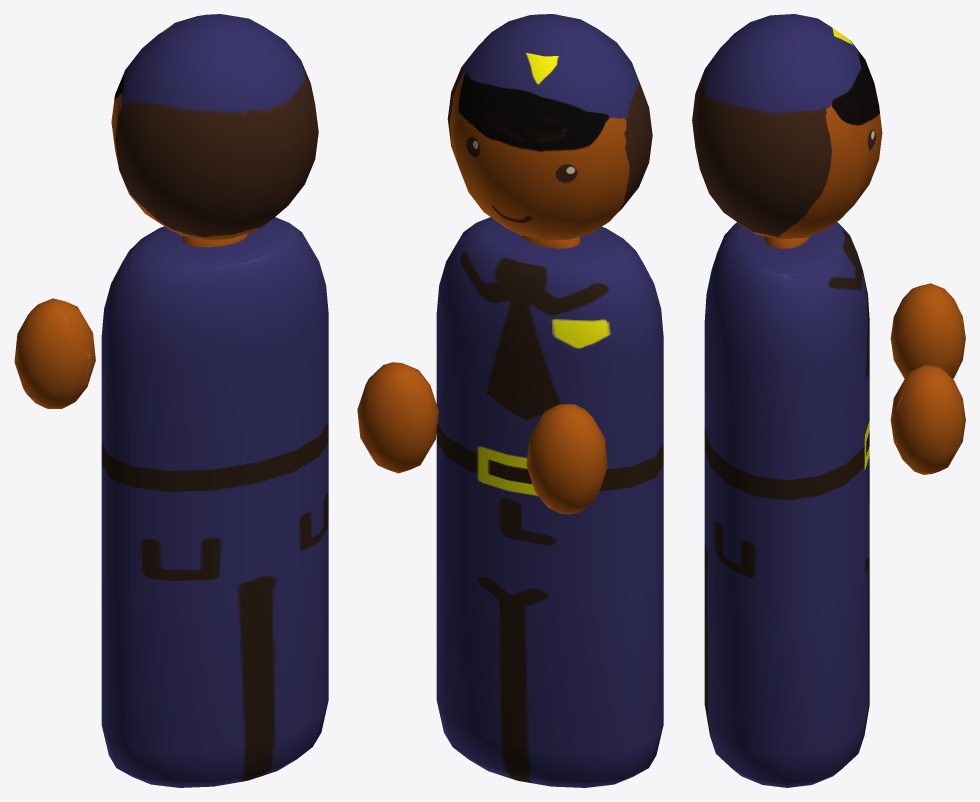
The model's file is seeker_crouching_body.glb.
3 renders of one model, left to right at view 1: azimuth 30°, elevation 25°; view 2: azimuth 150°, elevation 25°; view 3: azimuth 270°, elevation 25°, orthographic.
Visible parts, largest first — view 1: seeker_crouching; view 2: seeker_crouching; view 3: seeker_crouching.
Boxes of the visible parts, bbox=[...] form: seeker_crouching: bbox=[14, 14, 328, 787]; seeker_crouching: bbox=[357, 14, 663, 787]; seeker_crouching: bbox=[692, 14, 965, 787].
Bounding box in the file's own units: 0.3496 × 1.02 × 0.3486.
Materials: 1 (1 with a texture image).
